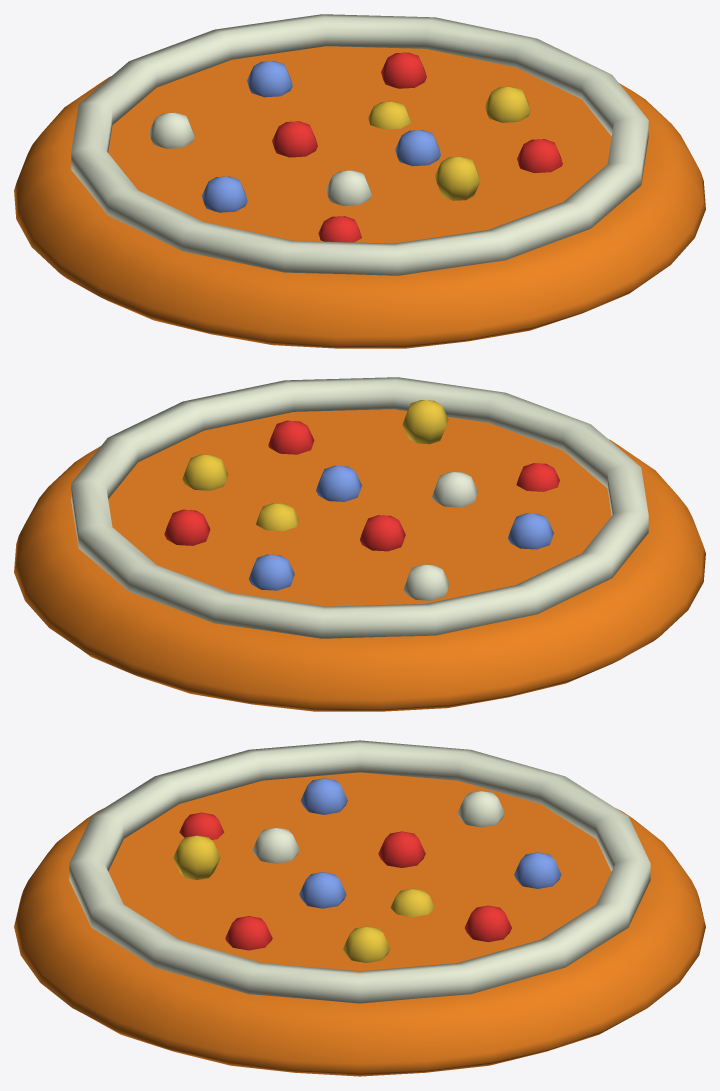
File: cookie01.fbx
The picture shows the model from 3 angles, top to bottom: view 1: azimuth 30°, elevation 25°; view 2: azimuth 150°, elevation 25°; view 3: azimuth 270°, elevation 25°; orthographic projection.
Visible parts, largest first — view 1: cookie01; view 2: cookie01; view 3: cookie01.
Part boxes in pixels (box(x1,y1,x2,y2)): cookie01: box(14, 14, 705, 348); cookie01: box(14, 377, 705, 711); cookie01: box(14, 740, 705, 1076).
Bounding box in the file's own units: 50.04 × 8.92 × 50.04.
